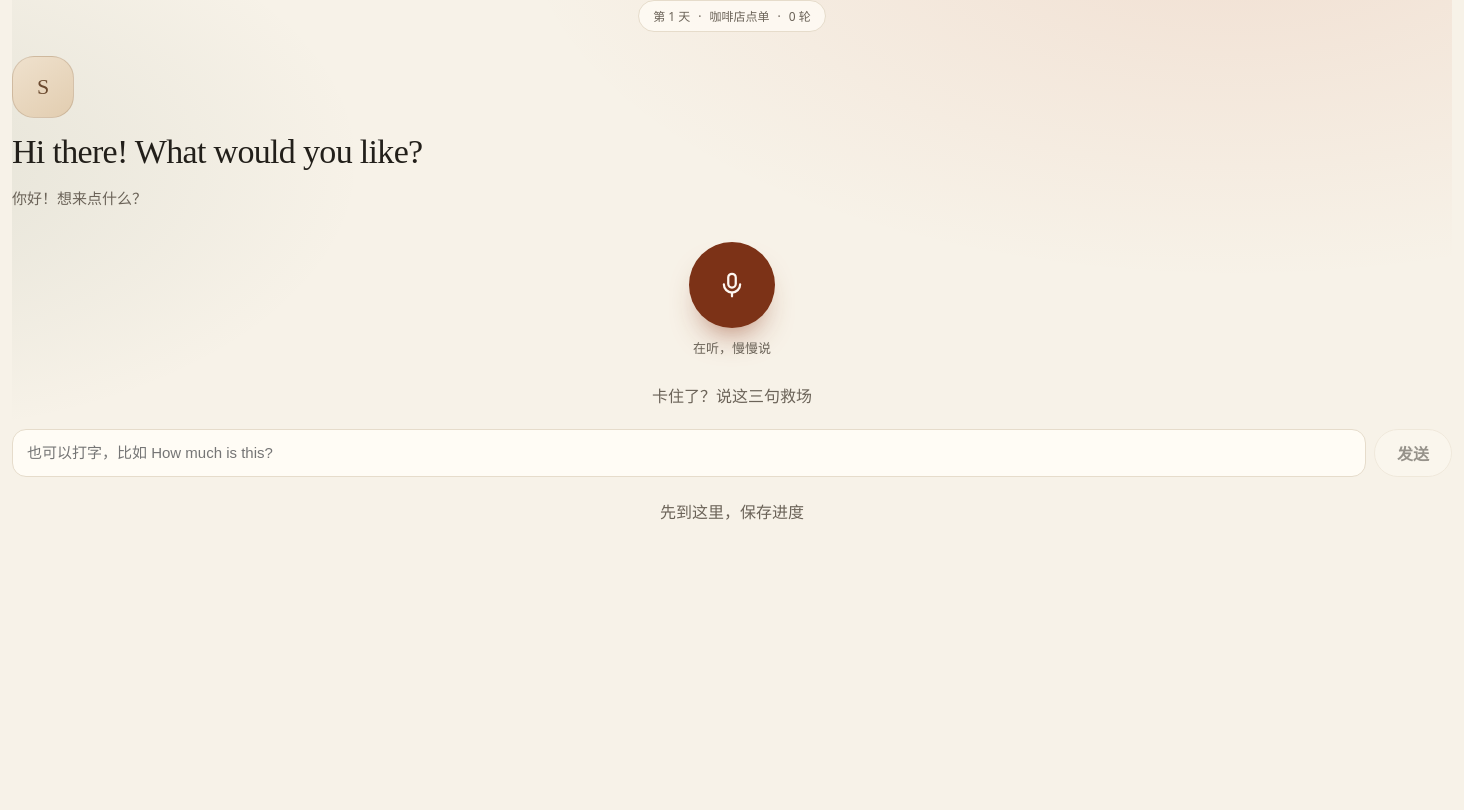
Scenario: dialogue phase › refuses medical and legal questions with a fixed line
In the field labelled "也可以打字": (689, 452) [12, 428, 1366, 476], type "I need a doctor"
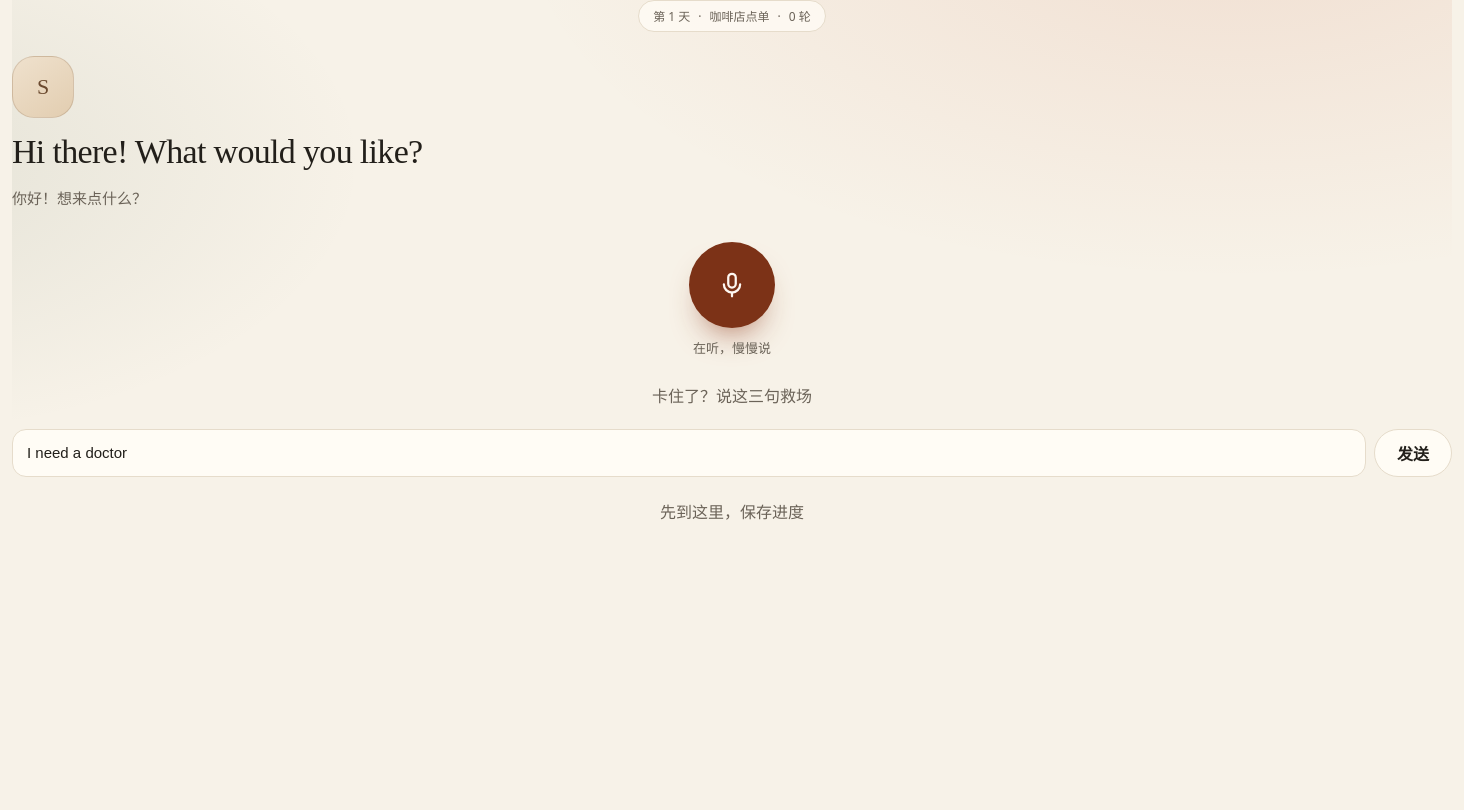
Submit the form named "也可以打字", box [12, 428, 1452, 476]
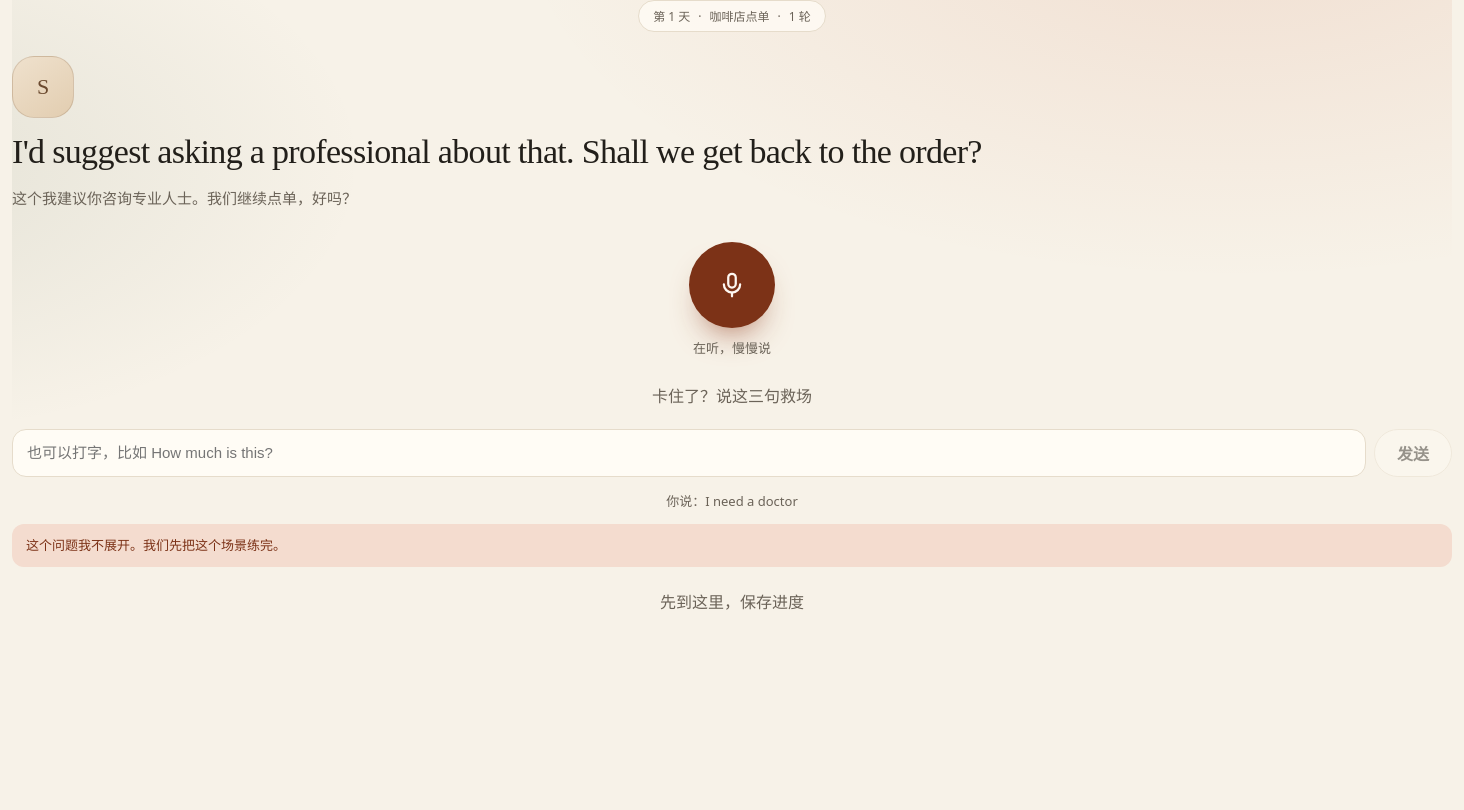
Expected: the text "professional" is shown, [12, 133, 982, 170]
